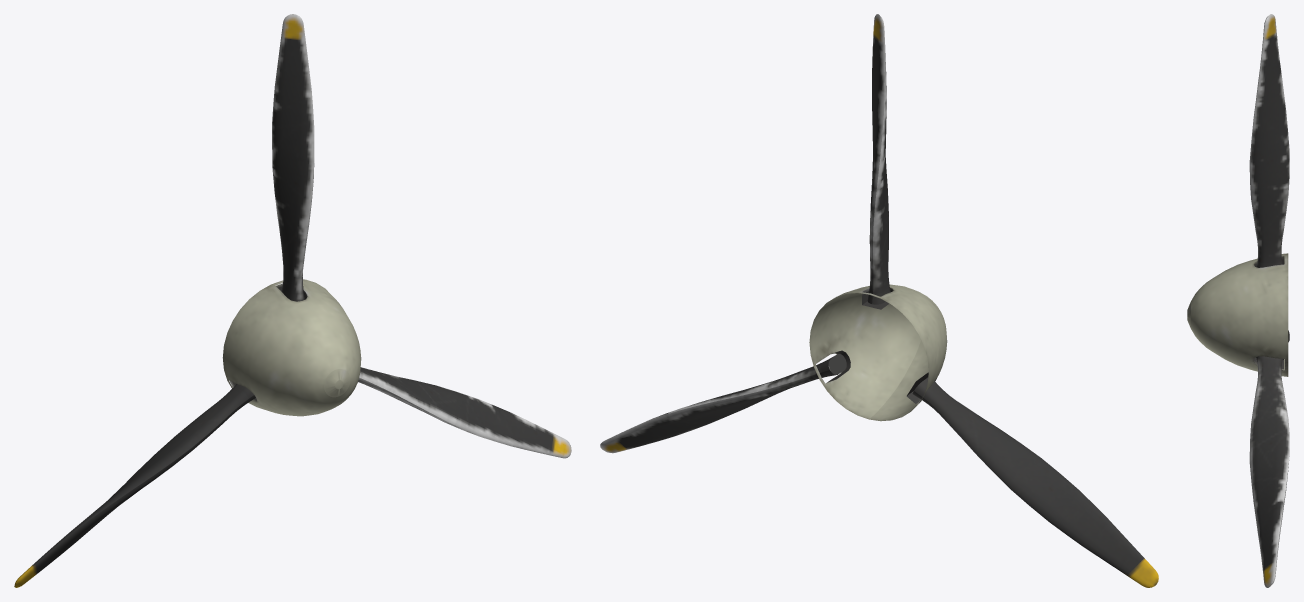
File: propella.fbx
3 renders of one model, left to right at view 1: azimuth 30°, elevation 25°; view 2: azimuth 150°, elevation 25°; view 3: azimuth 270°, elevation 25°, orthographic. The views are drawn at different scales.
Visible parts, largest first — view 1: Supermarine_Spitfire_Mk:Object_73, Supermarine_Spitfire_Mk:Object_78; view 2: Supermarine_Spitfire_Mk:Object_73, Supermarine_Spitfire_Mk:Object_78; view 3: Supermarine_Spitfire_Mk:Object_73, Supermarine_Spitfire_Mk:Object_78.
Boxes of the visible parts, x1,y1,x2,y2 form: Supermarine_Spitfire_Mk:Object_73: (14,14,571,587); Supermarine_Spitfire_Mk:Object_78: (222,279,361,416); Supermarine_Spitfire_Mk:Object_73: (600,14,1158,587); Supermarine_Spitfire_Mk:Object_78: (809,284,947,421); Supermarine_Spitfire_Mk:Object_73: (1249,14,1289,587); Supermarine_Spitfire_Mk:Object_78: (1187,253,1288,376).
Bounding box in the file's own units: 254 × 221 × 45.3.
